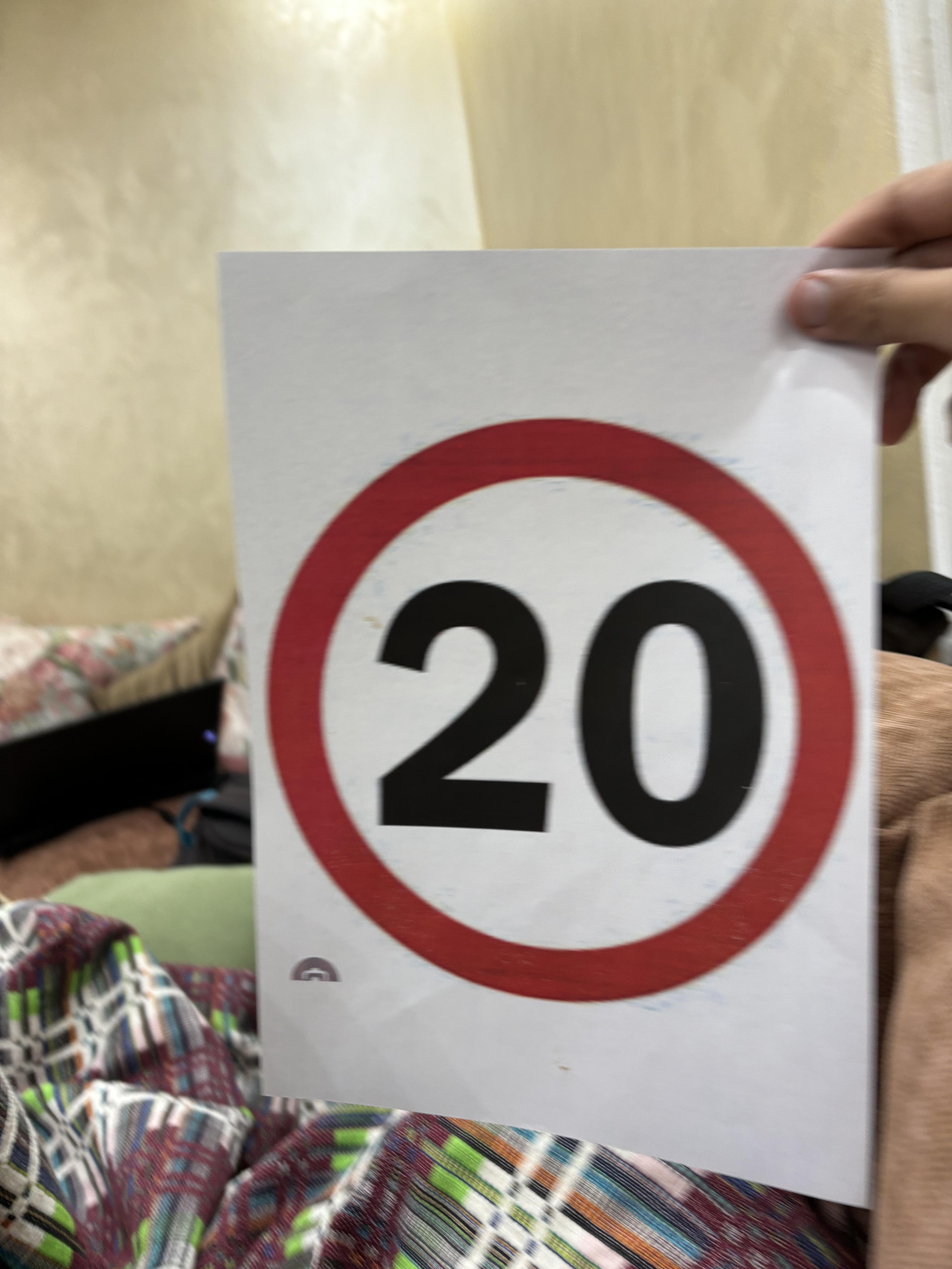20-Speed: (260, 416, 861, 1002)
